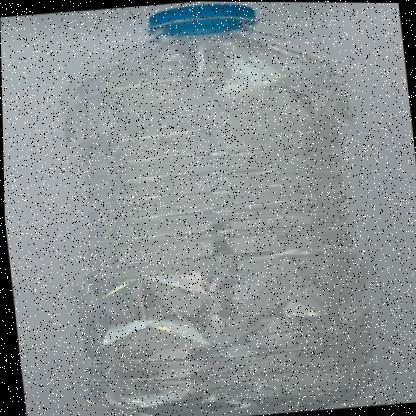bottle cap: (31, 1, 367, 171)
